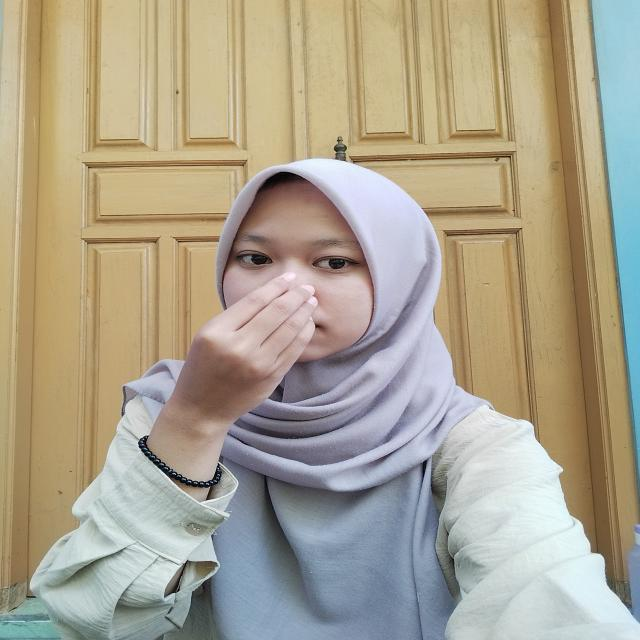bau: (166, 263, 341, 443)
